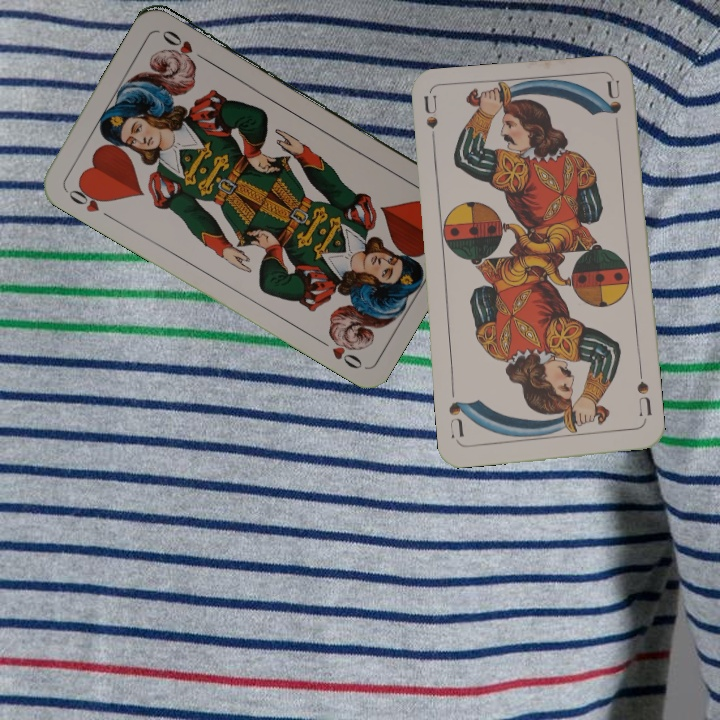HO: (62, 179, 115, 222)
SU: (420, 93, 440, 153), (633, 377, 654, 419)
